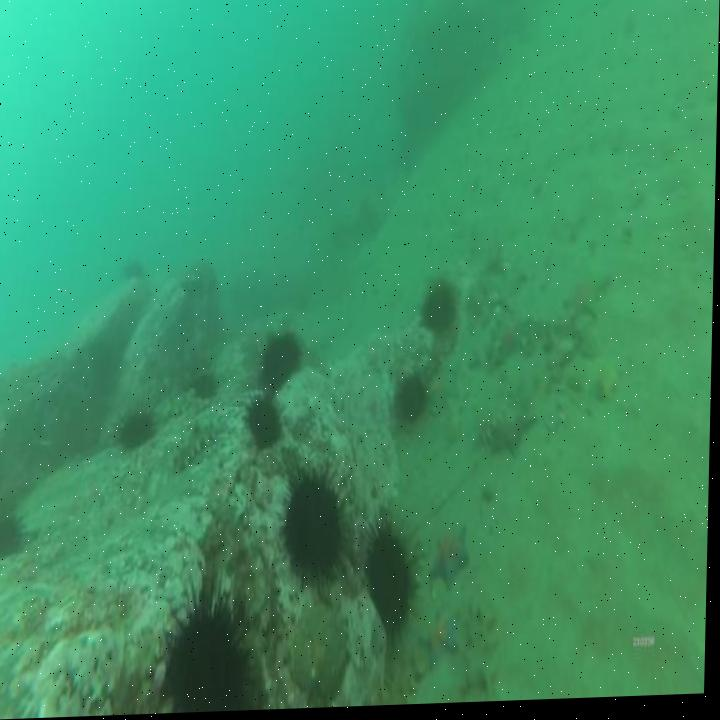echinus: (166, 613, 253, 715), (285, 479, 344, 583), (369, 528, 417, 631), (265, 334, 302, 396), (424, 287, 460, 338), (248, 399, 283, 451), (396, 379, 426, 424), (120, 415, 155, 448), (0, 522, 24, 567), (194, 372, 219, 401)
holothurian: (172, 415, 230, 473)
starfish: (493, 406, 536, 462), (423, 610, 463, 666), (434, 532, 471, 588), (566, 277, 610, 324), (493, 313, 530, 364)
